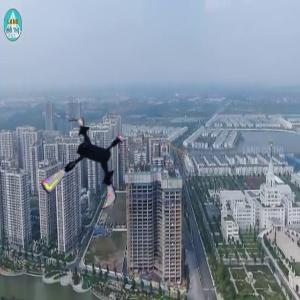drone: (40, 121, 134, 215)
